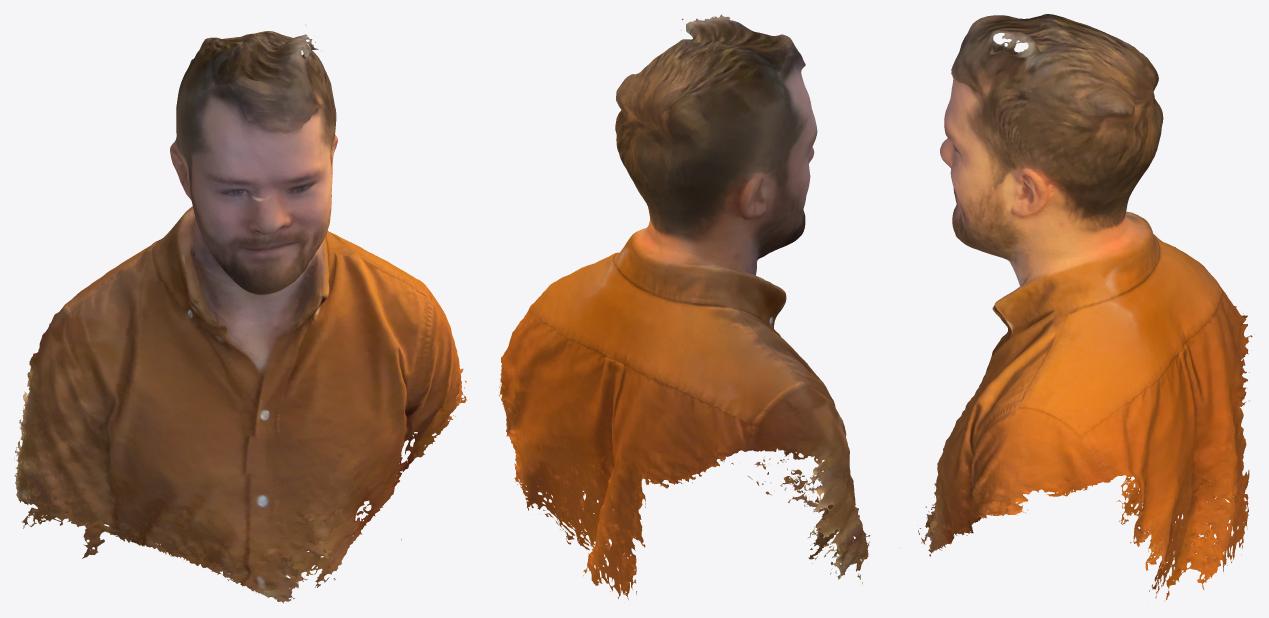
3 views of the same model, side by side, from view 1: azimuth 30°, elevation 25°; view 2: azimuth 150°, elevation 25°; view 3: azimuth 270°, elevation 25° (orthographic). The views are drawn at different scales.
Size of the model in its own units: 0.4976 by 0.6568 by 0.3833.
Materials: 1 (1 with a texture image).
